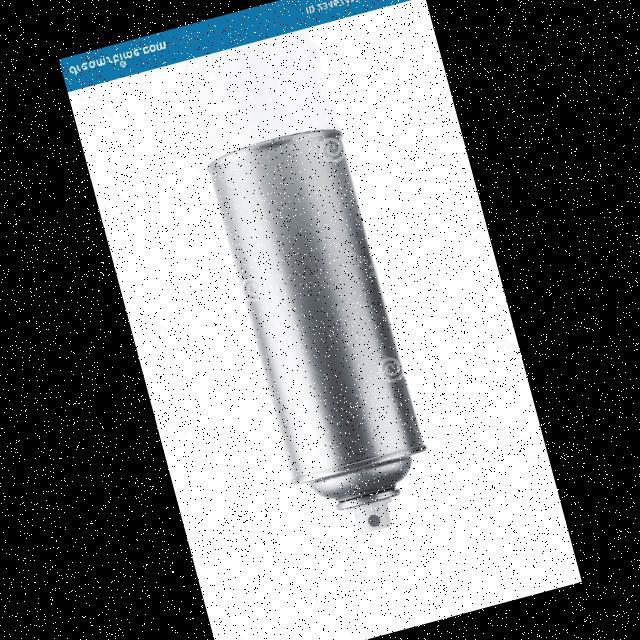chemical_spray_can: (176, 87, 468, 568)
